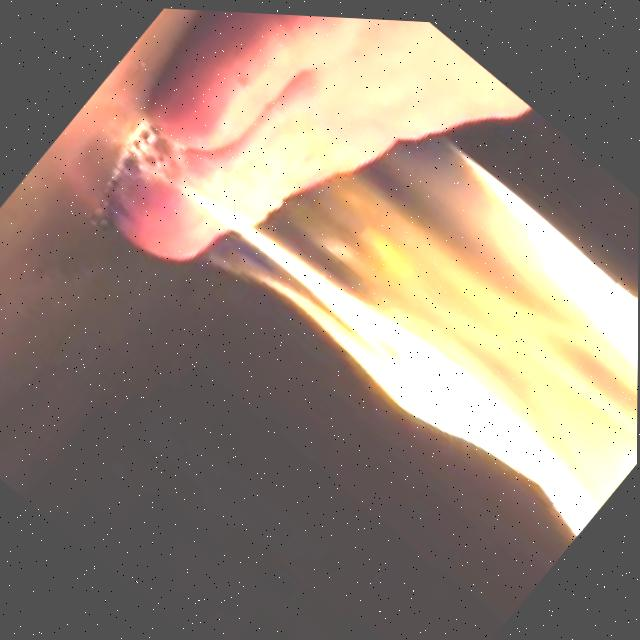Fire: (165, 7, 640, 555)
